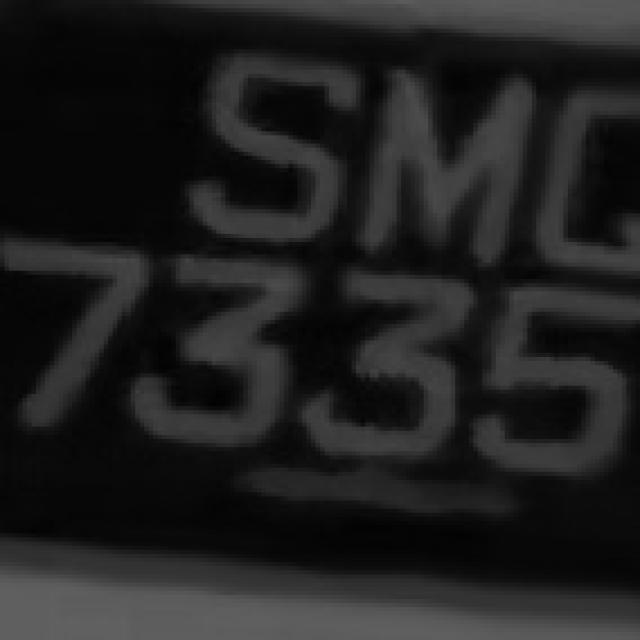3: (298, 254, 464, 468), (167, 234, 306, 459)
5: (477, 270, 640, 488)
7: (14, 209, 158, 439)
M: (352, 58, 536, 283)
S: (189, 33, 356, 246)
